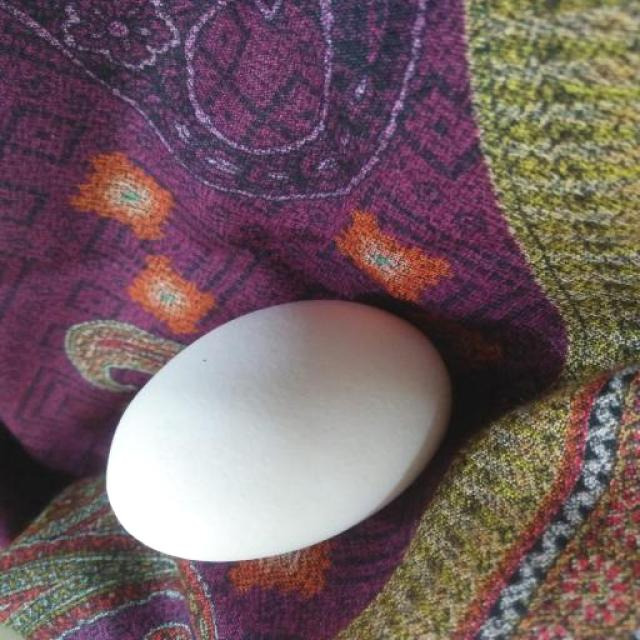telur: (105, 296, 453, 562)
